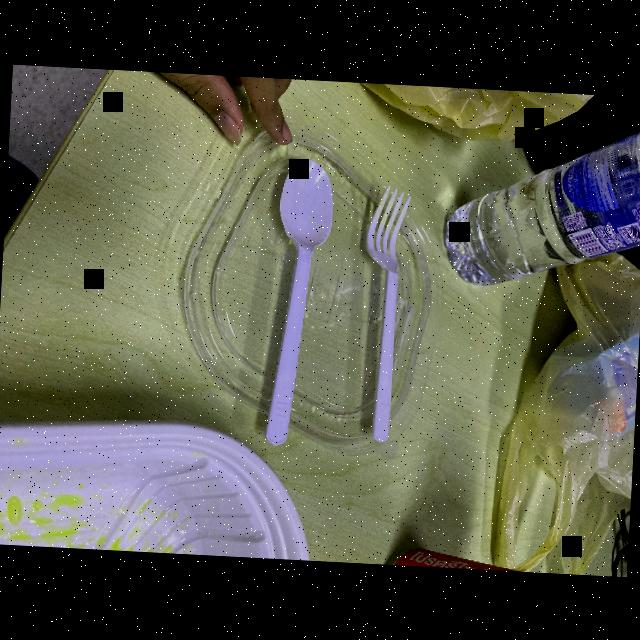plastic_spoon: (248, 152, 342, 446), (352, 183, 418, 450)
